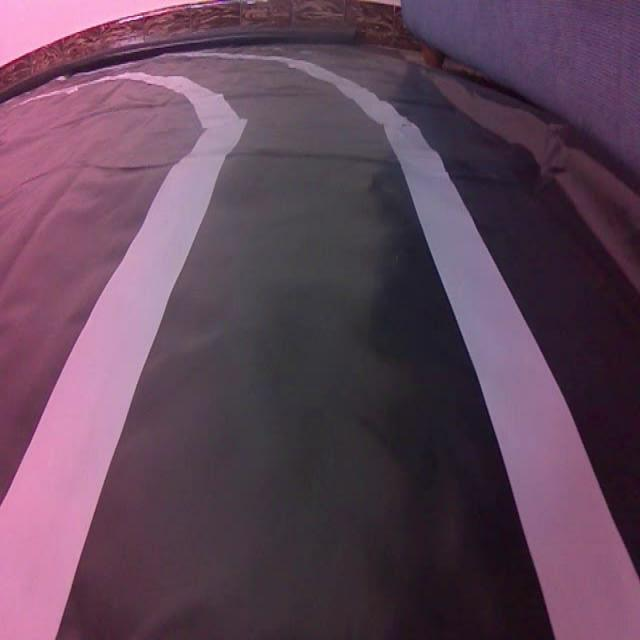LineaCarril: (238, 55, 640, 638), (0, 72, 246, 638)
